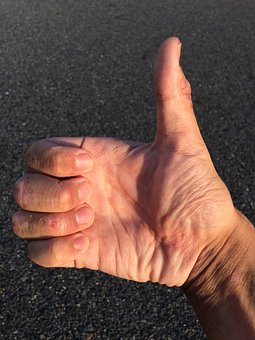fist: (28, 123, 127, 283)
